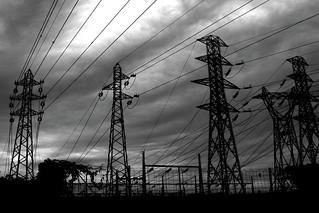power_tower: (186, 31, 259, 196), (95, 56, 140, 193), (6, 65, 54, 181), (283, 55, 319, 174)
